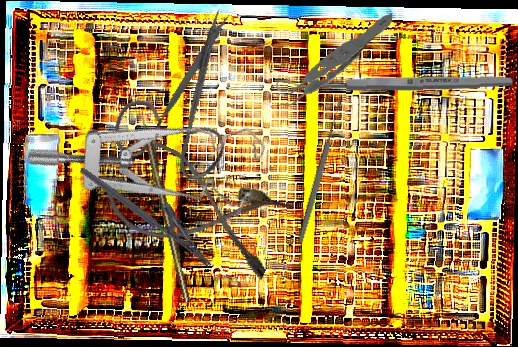Cannula: (93, 130, 296, 285)
Hook Surgical: (137, 106, 192, 303)
Iris Scissors: (89, 5, 269, 197)
Needle Holder: (79, 148, 226, 270)
Speculum: (22, 44, 280, 261)
Surgical Spoon: (296, 98, 345, 244), (275, 73, 514, 94)
Tissue Forceps: (260, 13, 402, 108)
